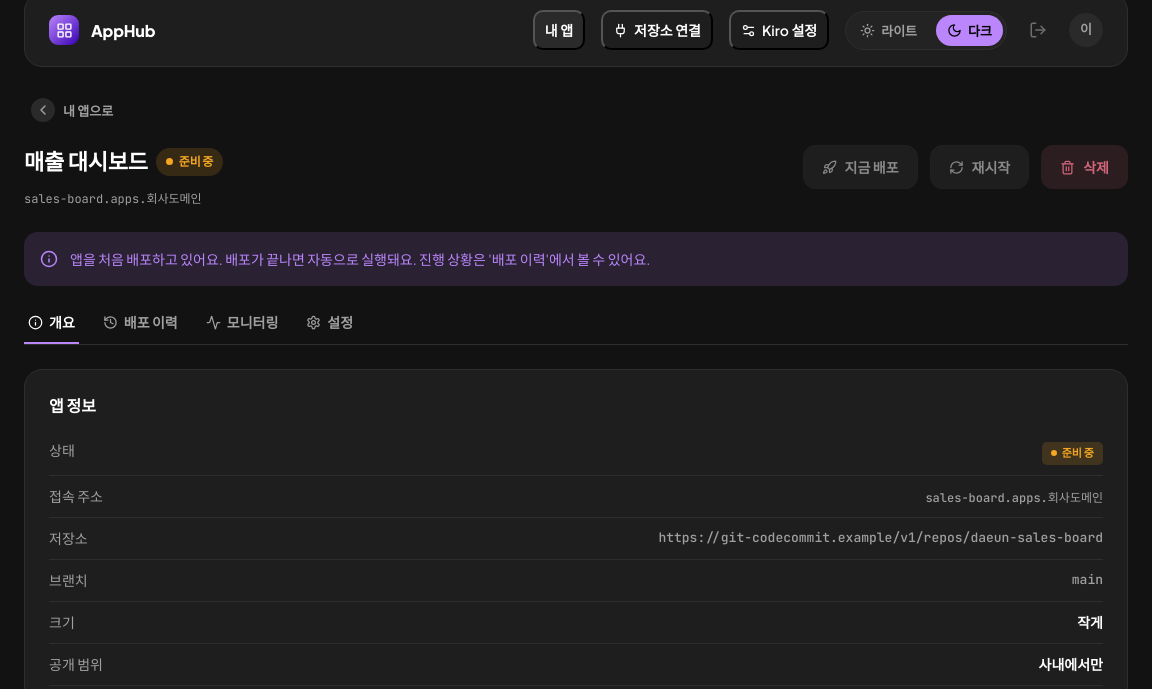
Scenario: 이슈 4 — 앱 상세 설정 탭 시간표 입력 › 시간표 앱(e5f6a7b8) 설정 탭에서 시간표 입력이 기존 값으로 노출된다
 설정 탭 진입
Step 1. Click the tab "설정" → x=330, y=323, box [302,302,357,344]
(page scrolled)
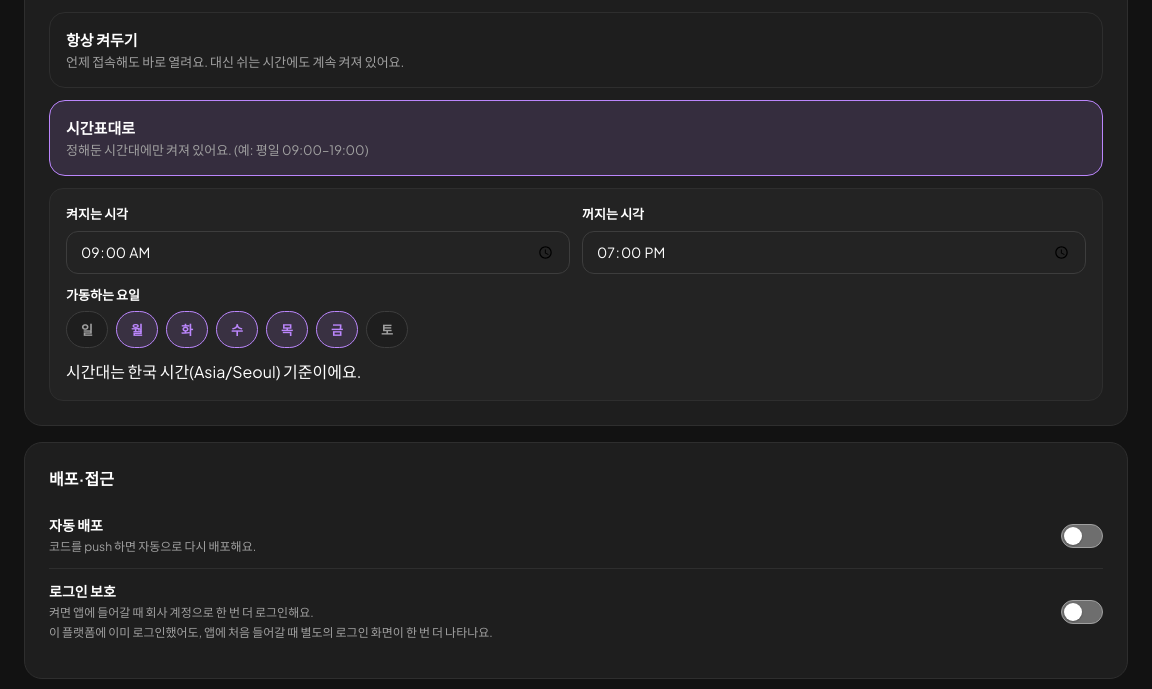
Now the time field labelled "켜지는 시각" holds "09:00", box [66,231,570,274]
